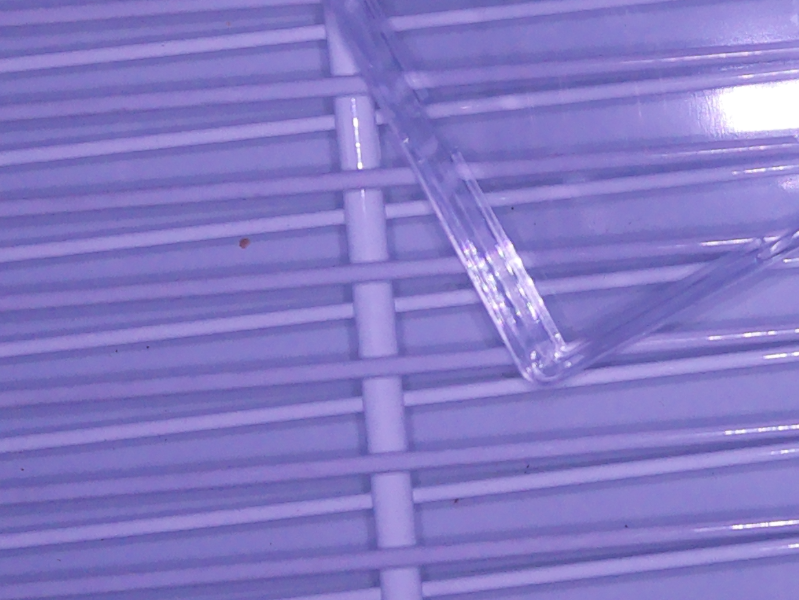plate: (316, 1, 799, 388)
